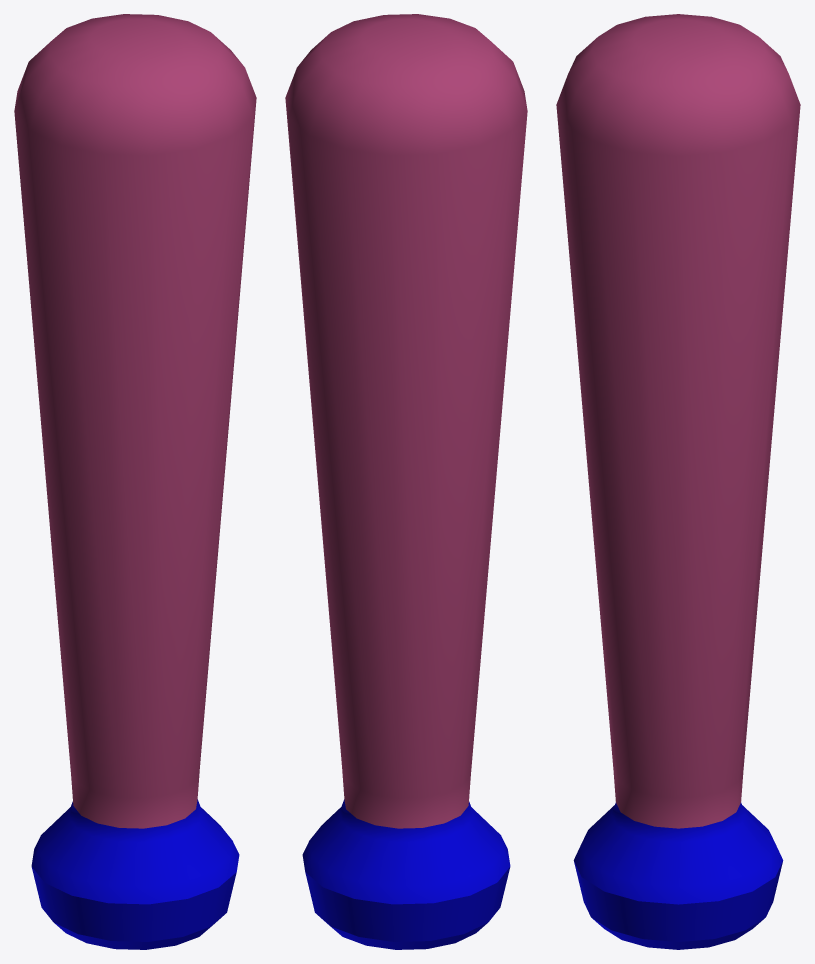
The model's file is Baseball bat.FBX.
The picture shows the model from 3 angles, left to right: view 1: azimuth 30°, elevation 25°; view 2: azimuth 150°, elevation 25°; view 3: azimuth 270°, elevation 25°; orthographic projection.
Parts seen in each view (by area): view 1: Baseball bat; view 2: Baseball bat; view 3: Baseball bat.
Part boxes in pixels (x1=…): Baseball bat: x1=14, y1=14, x2=256, y2=949; Baseball bat: x1=285, y1=14, x2=527, y2=949; Baseball bat: x1=556, y1=14, x2=800, y2=949.
Bounding box in the file's own units: 258 × 258 × 1032.
